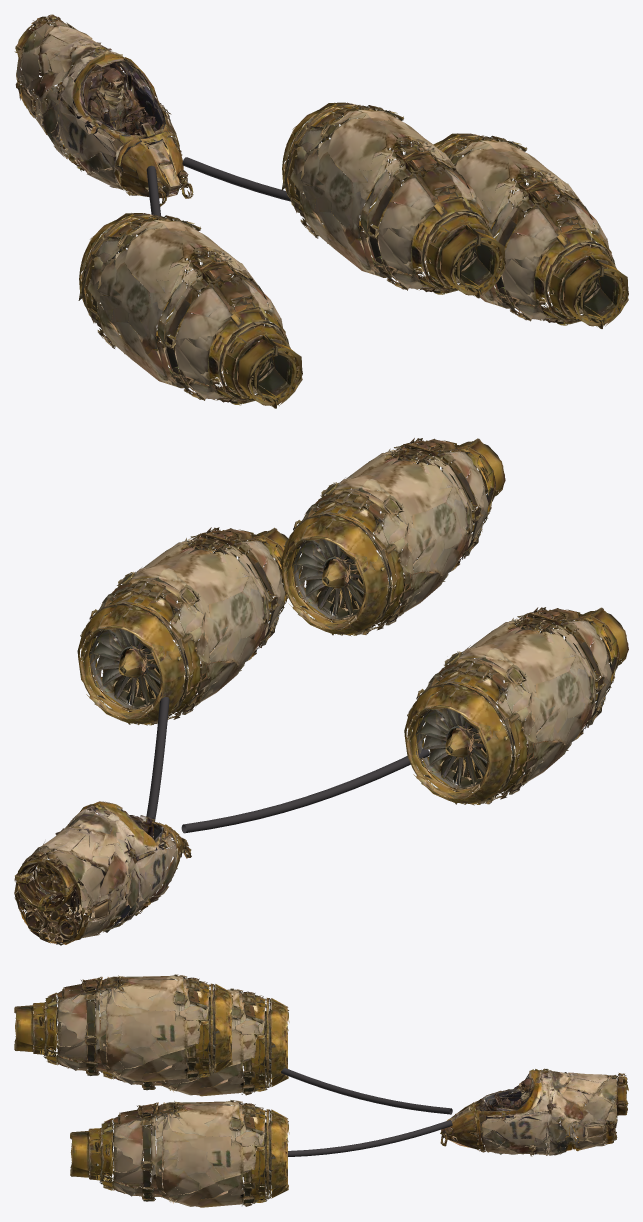
Rendered from sirocco-rival.glb.
The picture shows the model from 3 angles, top to bottom: view 1: azimuth 30°, elevation 25°; view 2: azimuth 150°, elevation 25°; view 3: azimuth 270°, elevation 25°; orthographic projection. The views are drawn at different scales.
Parts seen in each view (by area): view 1: sirocco-engine-top-body, sirocco-engine-left-body, sirocco-engine-right-body, sirocco-cockpit-body, sirocco-tow-cables; view 2: sirocco-engine-top-body, sirocco-engine-left-body, sirocco-engine-right-body, sirocco-cockpit-body, sirocco-tow-cables; view 3: sirocco-engine-top-body, sirocco-engine-right-body, sirocco-cockpit-body, sirocco-engine-left-body, sirocco-tow-cables.
Boxes of the visible parts, <box> form: sirocco-engine-top-body: <box>281,102,505,298</box>; sirocco-engine-left-body: <box>78,213,302,408</box>; sirocco-engine-right-body: <box>432,133,628,328</box>; sirocco-cockpit-body: <box>14,14,193,206</box>; sirocco-tow-cables: <box>146,157,370,229</box>; sirocco-engine-top-body: <box>281,438,505,635</box>; sirocco-engine-left-body: <box>404,607,628,805</box>; sirocco-engine-right-body: <box>77,527,301,725</box>; sirocco-cockpit-body: <box>14,801,191,945</box>; sirocco-tow-cables: <box>146,692,429,833</box>; sirocco-engine-top-body: <box>14,974,233,1082</box>; sirocco-engine-right-body: <box>70,1100,289,1207</box>; sirocco-cockpit-body: <box>440,1068,628,1156</box>; sirocco-engine-left-body: <box>77,988,289,1096</box>; sirocco-tow-cables: <box>269,1064,452,1156</box>.
Bounding box in the file's own units: 11.9 × 6.34 × 20.34.
3 materials, 2 textured.
